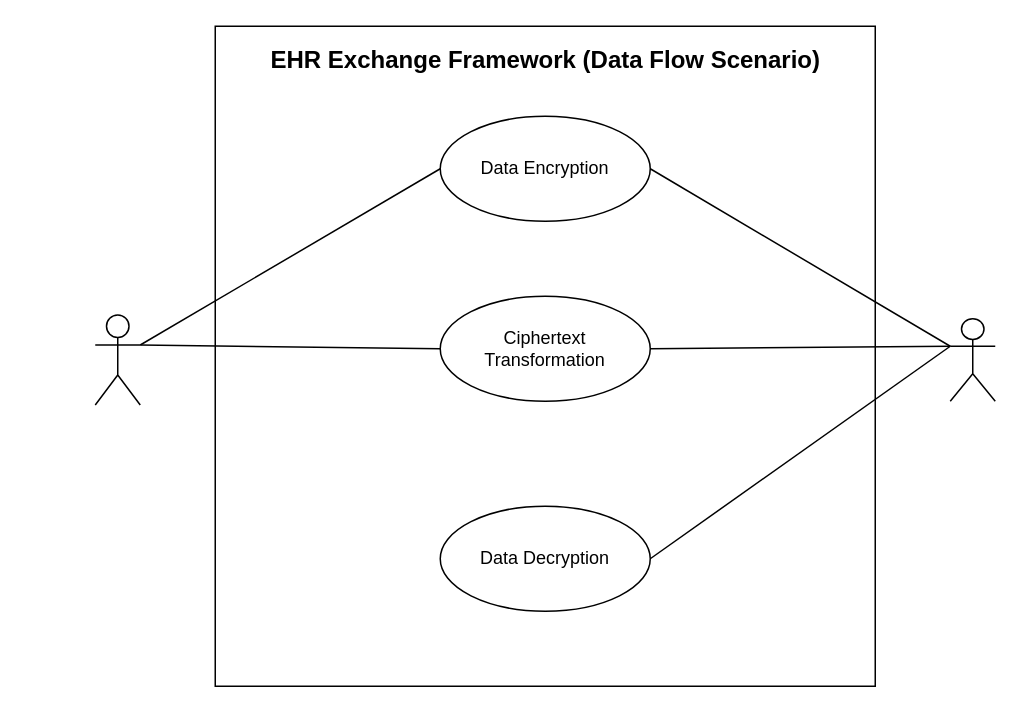
Image size: 1022x713. Some labels were removed from this diagram. The box of each missing label's shape, as (x1, y1, x2, y2) in pixels:
Cloud Service Provider: (94, 314, 140, 405)
User: (949, 317, 995, 401)
